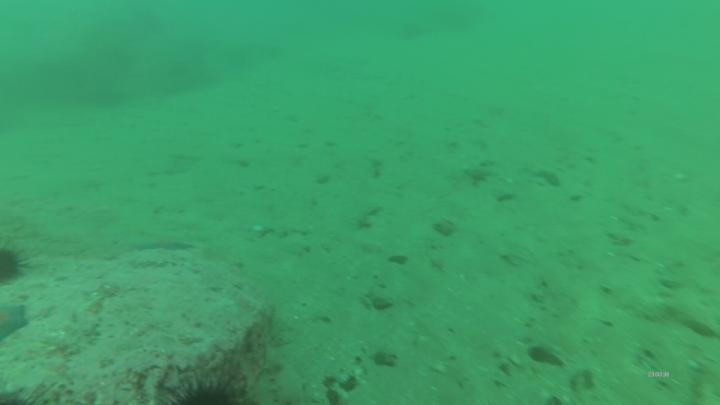echinus: (2, 250, 17, 284)
starfish: (1, 304, 26, 343), (139, 239, 193, 250)
